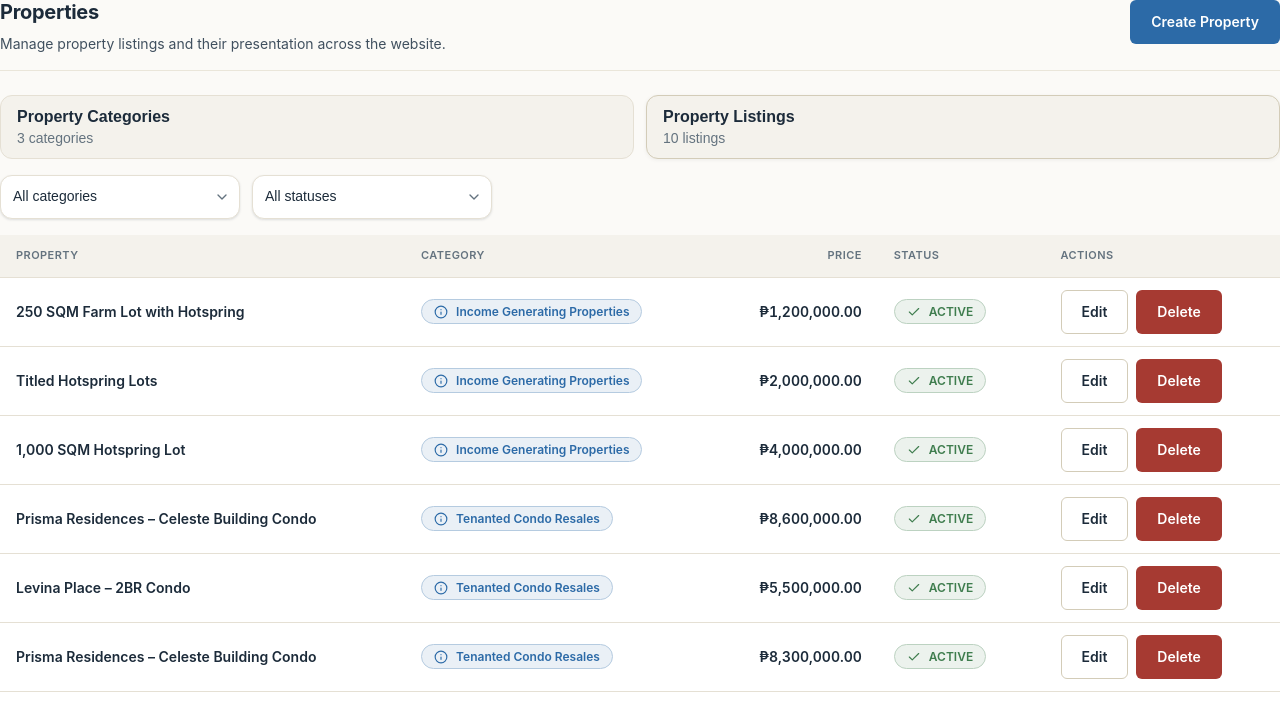
Test: CatalogPage › shows Clear button when a filter is active and resets filters
This screenshot has width=1280, height=704.
expect the text "250 SQM Farm Lot with Hotspring" is shown: met, box [16,303,244,320]
expect the text "Clear" is not shown: met
Select "Tenanted Condo Resales" in the dropdown named "Filter by category" at [120, 197], box [0,175,240,219]
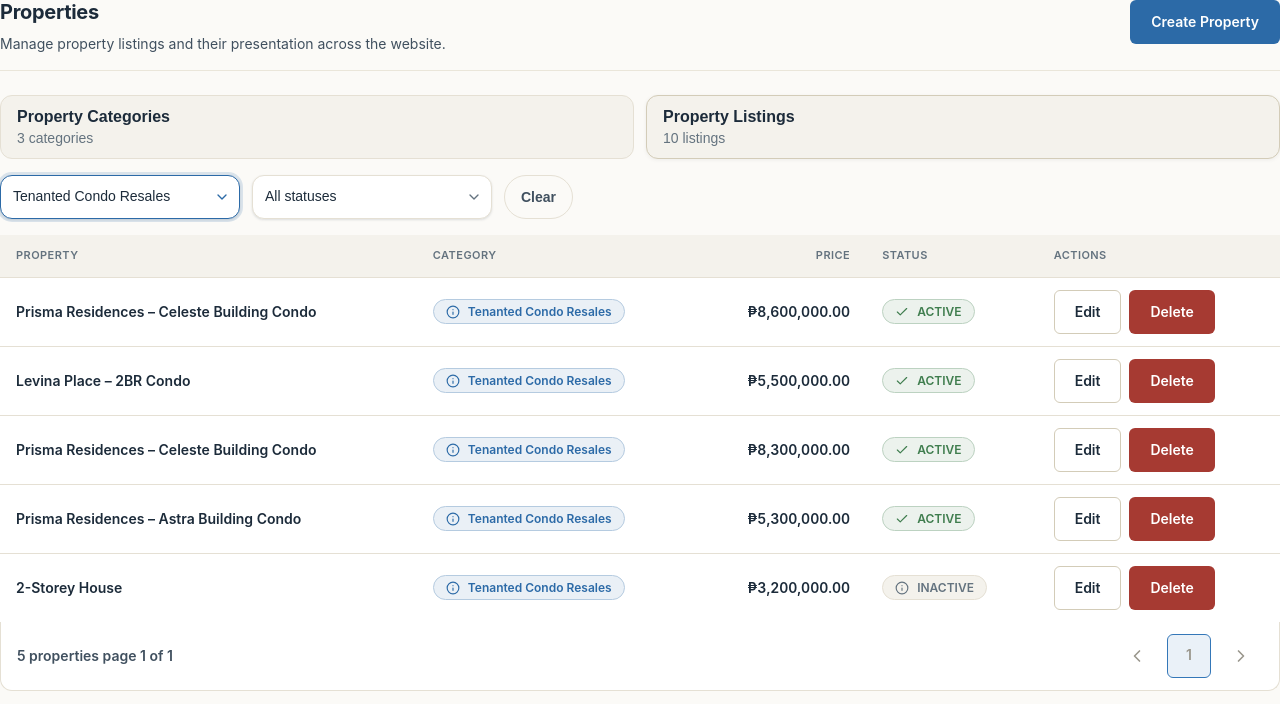
expect the button "Clear" is shown: met
Click the button "Clear".
click(538, 197)  # box [504,175,573,219]
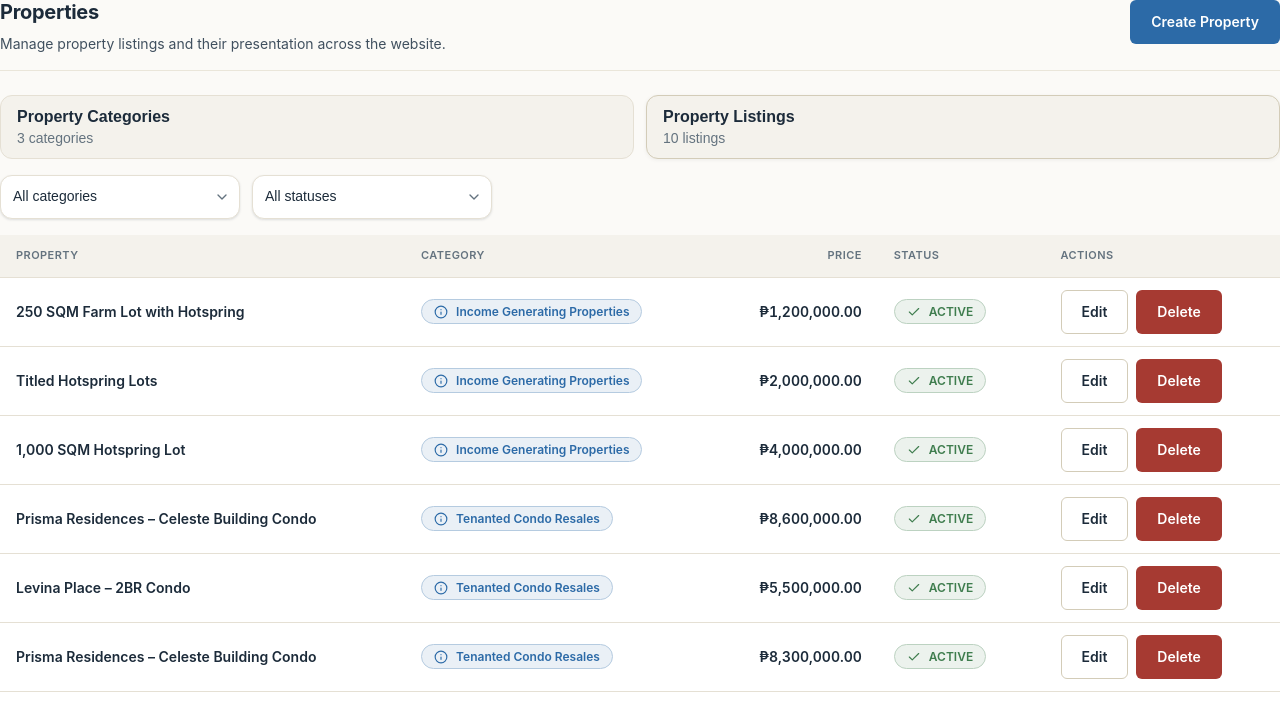
expect the dropdown named "Filter by status" shows "All statuses": met, box [252,175,492,219]
expect the button "Clear" is gone: met
